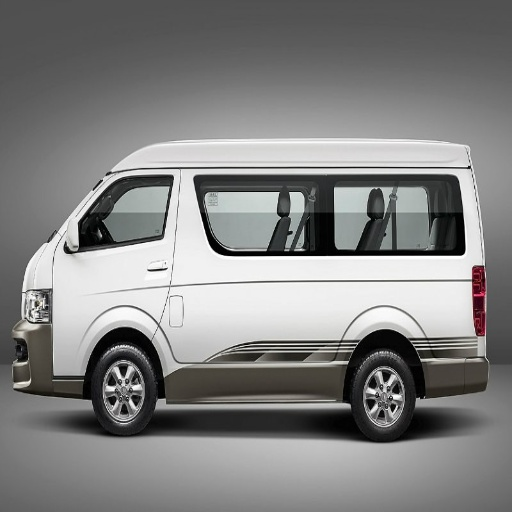back_left_door: (274, 335, 331, 390)
trunk: (306, 275, 481, 392), (58, 301, 115, 378), (130, 289, 181, 373), (236, 284, 287, 321)
